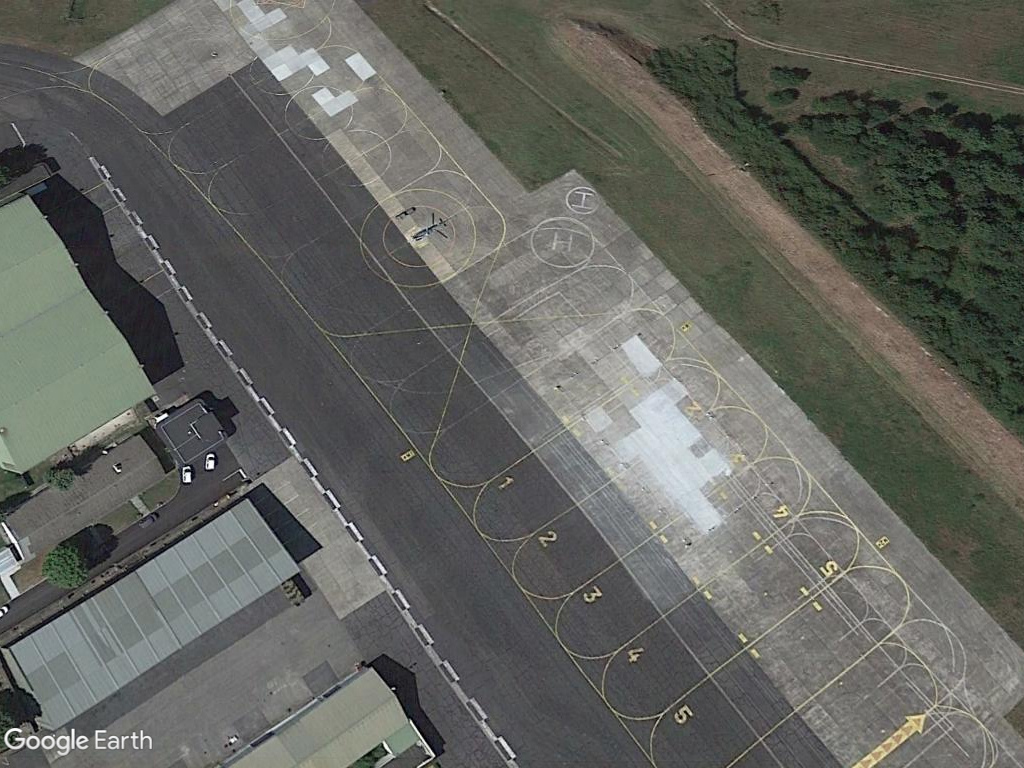helicopter: (407, 214, 454, 245)
van: (203, 449, 217, 477), (179, 462, 194, 488)
